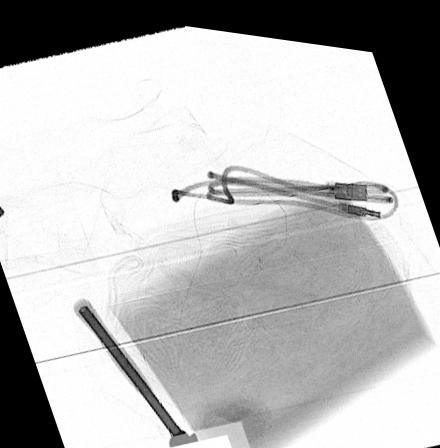Hammer: (72, 294, 197, 440)
